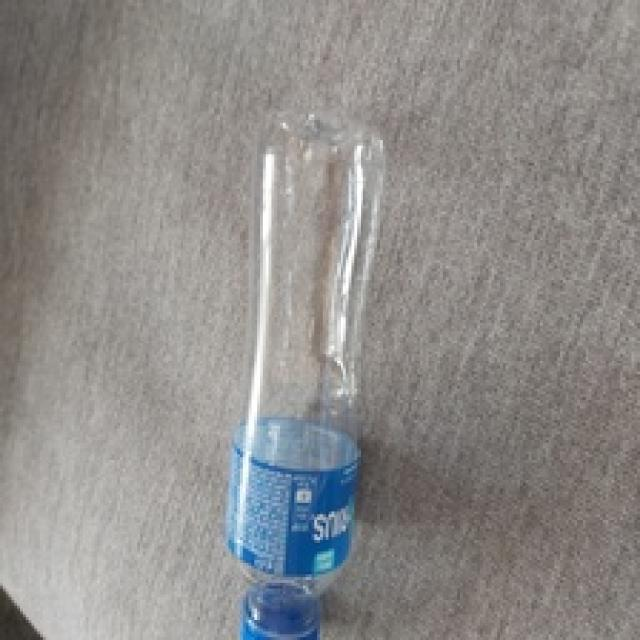Plastic: (224, 108, 390, 640)
